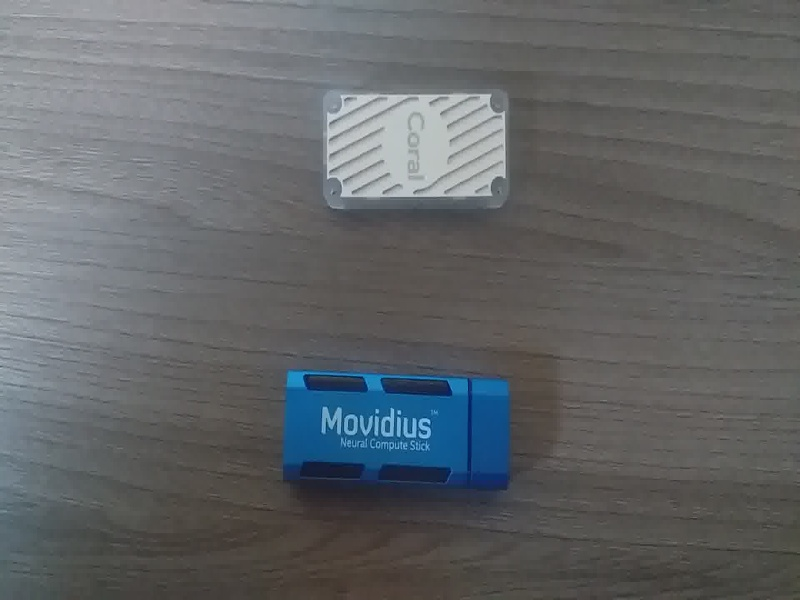coral: (313, 76, 520, 221)
movidius: (278, 355, 517, 488)
